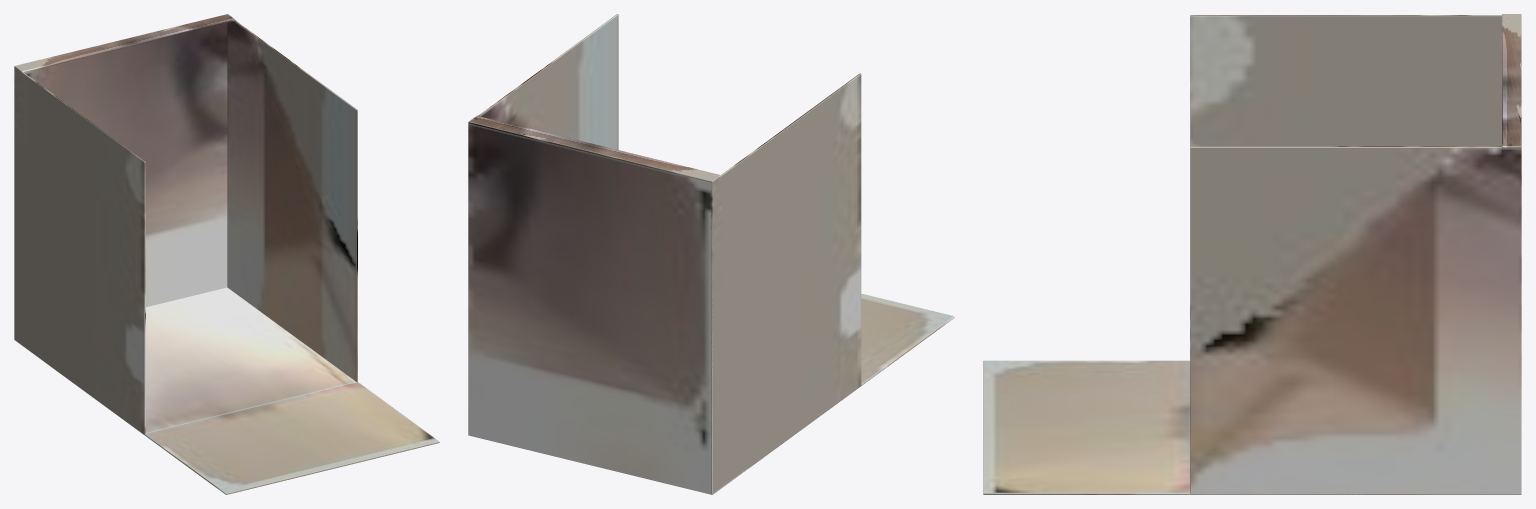
The picture shows the model from 3 angles, left to right: view 1: azimuth 30°, elevation 25°; view 2: azimuth 150°, elevation 25°; view 3: azimuth 270°, elevation 25°; orthographic projection. The views are drawn at different scales.
Visible parts, largest first — view 1: open_white_carton__body, open_white_carton__flap; view 2: open_white_carton__body, open_white_carton__flap; view 3: open_white_carton__body, open_white_carton__flap.
Part boxes in pixels (x1,y1,x2,y2): open_white_carton__body: (14,14,357,434); open_white_carton__flap: (144,382,439,494); open_white_carton__body: (468,14,861,494); open_white_carton__flap: (861,293,954,385); open_white_carton__body: (1190,14,1521,494); open_white_carton__flap: (983,360,1190,494).
Bounding box in the file's own units: 0.09 × 0.1103 × 0.1544.
1 material, 1 textured.
